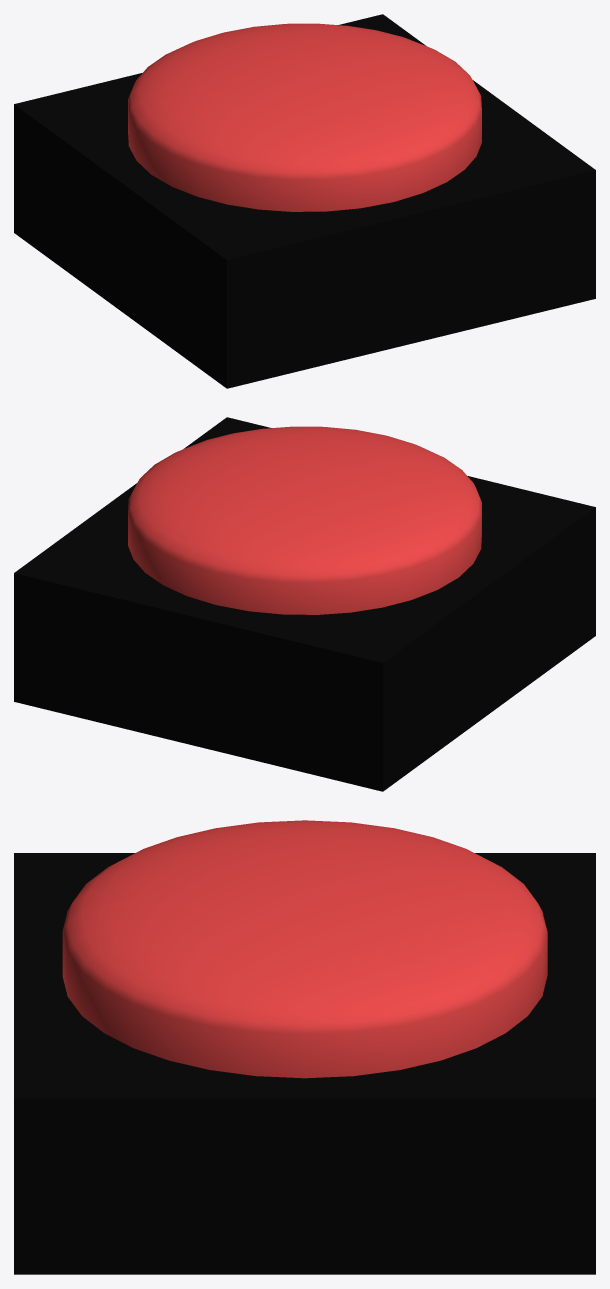
File: Push Button.fbx
3 renders of one model, top to bottom at view 1: azimuth 30°, elevation 25°; view 2: azimuth 150°, elevation 25°; view 3: azimuth 270°, elevation 25°, orthographic. The views are drawn at different scales.
Visible parts, largest first — view 1: Cube, Capsule; view 2: Cube, Capsule; view 3: Cube, Capsule.
Part boxes in pixels (x1=…): Cube: x1=14, y1=14, x2=595, y2=388; Capsule: x1=128, y1=23, x2=481, y2=211; Cube: x1=14, y1=417, x2=595, y2=791; Capsule: x1=128, y1=426, x2=481, y2=614; Cube: x1=14, y1=853, x2=595, y2=1274; Capsule: x1=62, y1=820, x2=547, y2=1078.
Size of the model in its own units: 15 by 7.5 by 15.
